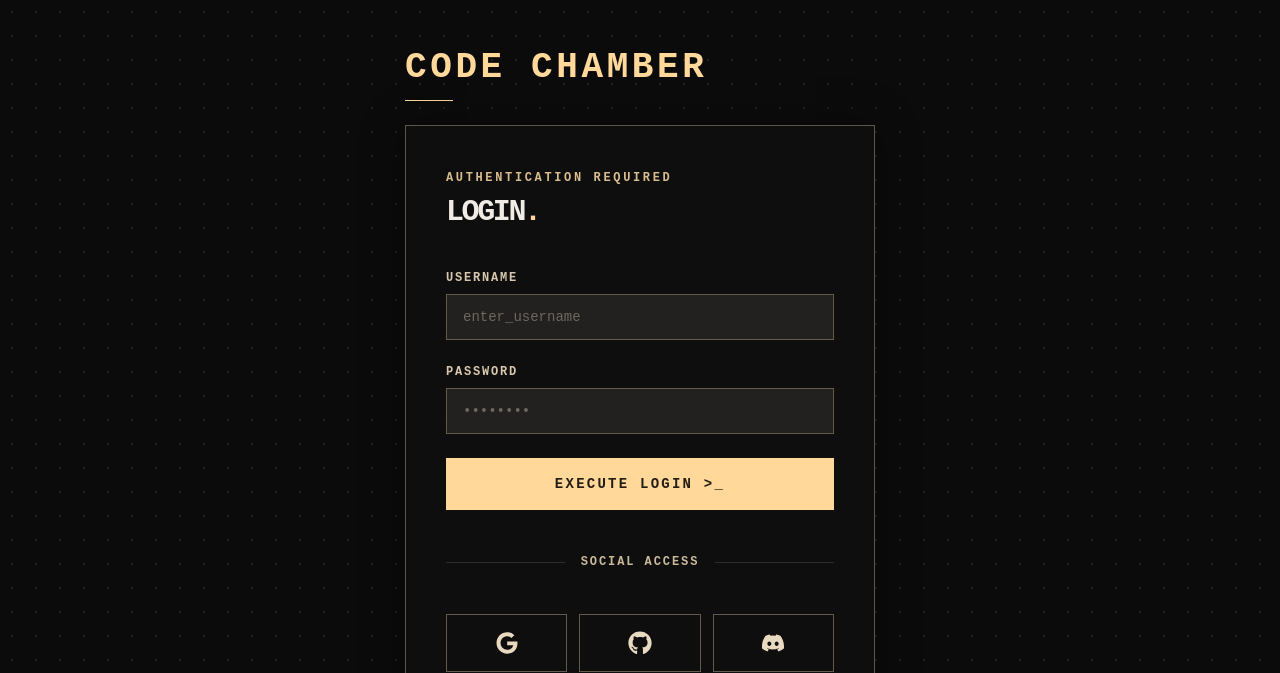
Test: Login - manual submit › shows a fallback error message when the error has no message
Type "alice" into the field with placeholder "enter_username" at coordinates (640, 317), box [446, 294, 834, 340]
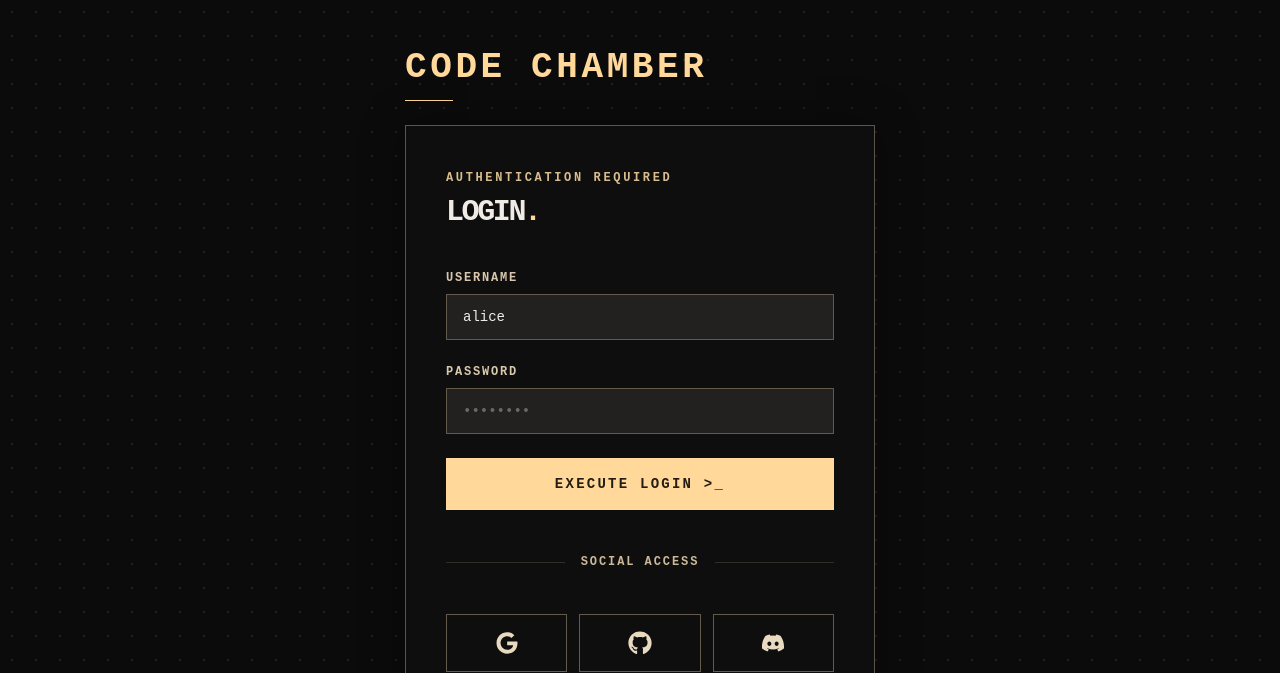
Type "wrongpass" into the password field with placeholder "••••••••" at coordinates (640, 411), box [446, 388, 834, 434]
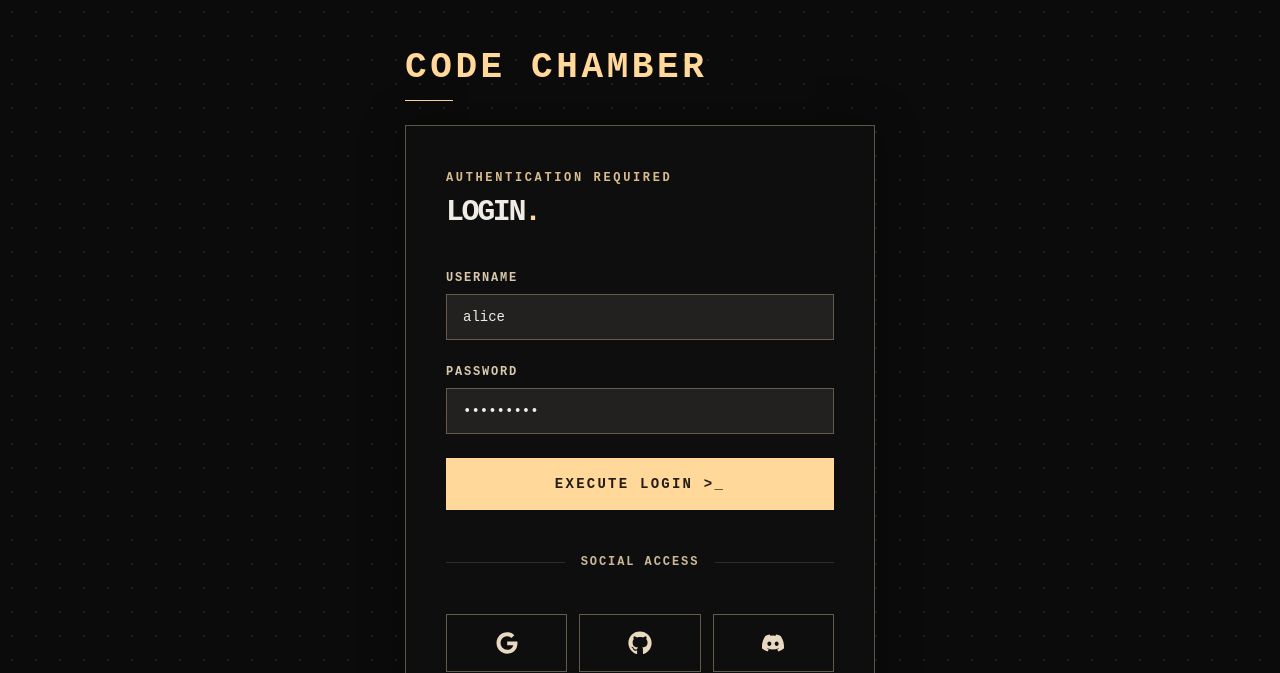
Click the button "EXECUTE LOGIN >_" at coordinates (640, 484), box [446, 458, 834, 510]
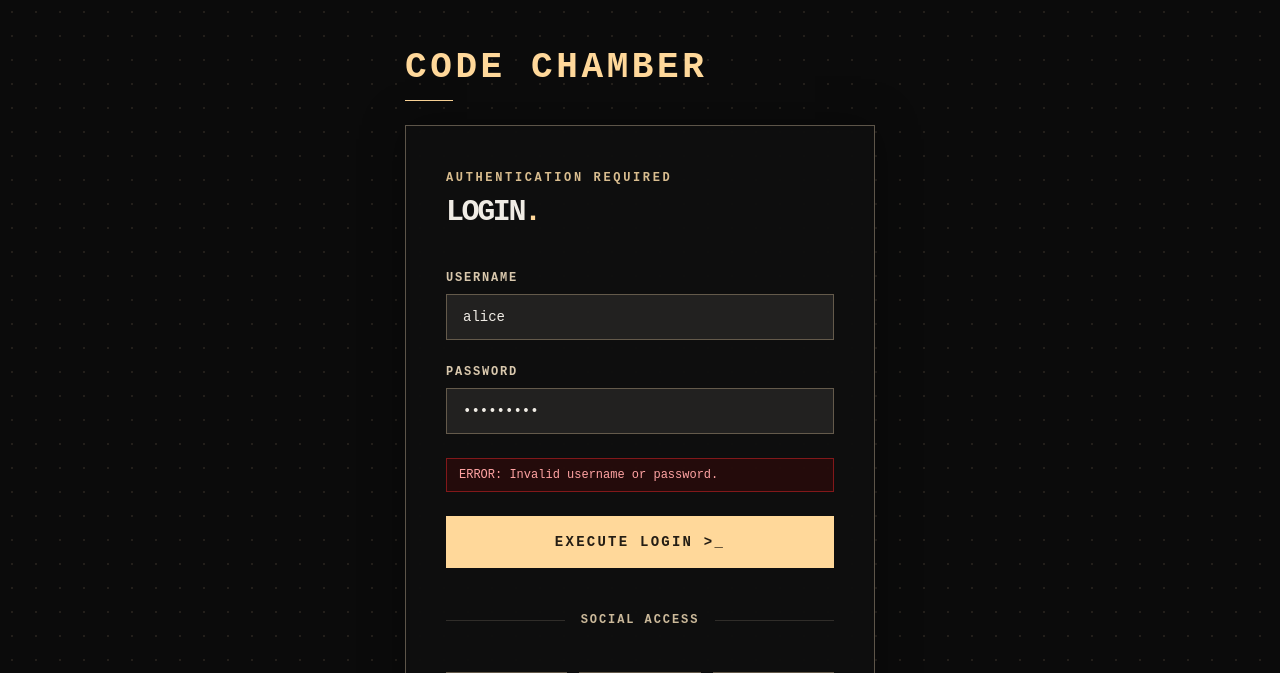
Check: the text "ERROR: Invalid username or password." is shown, box [446, 458, 834, 492]
